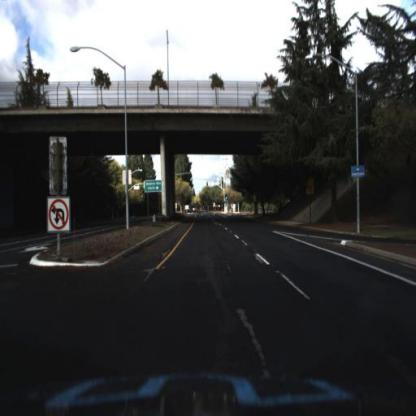trafficLight-Green: (226, 195, 229, 201), (207, 184, 209, 189)
